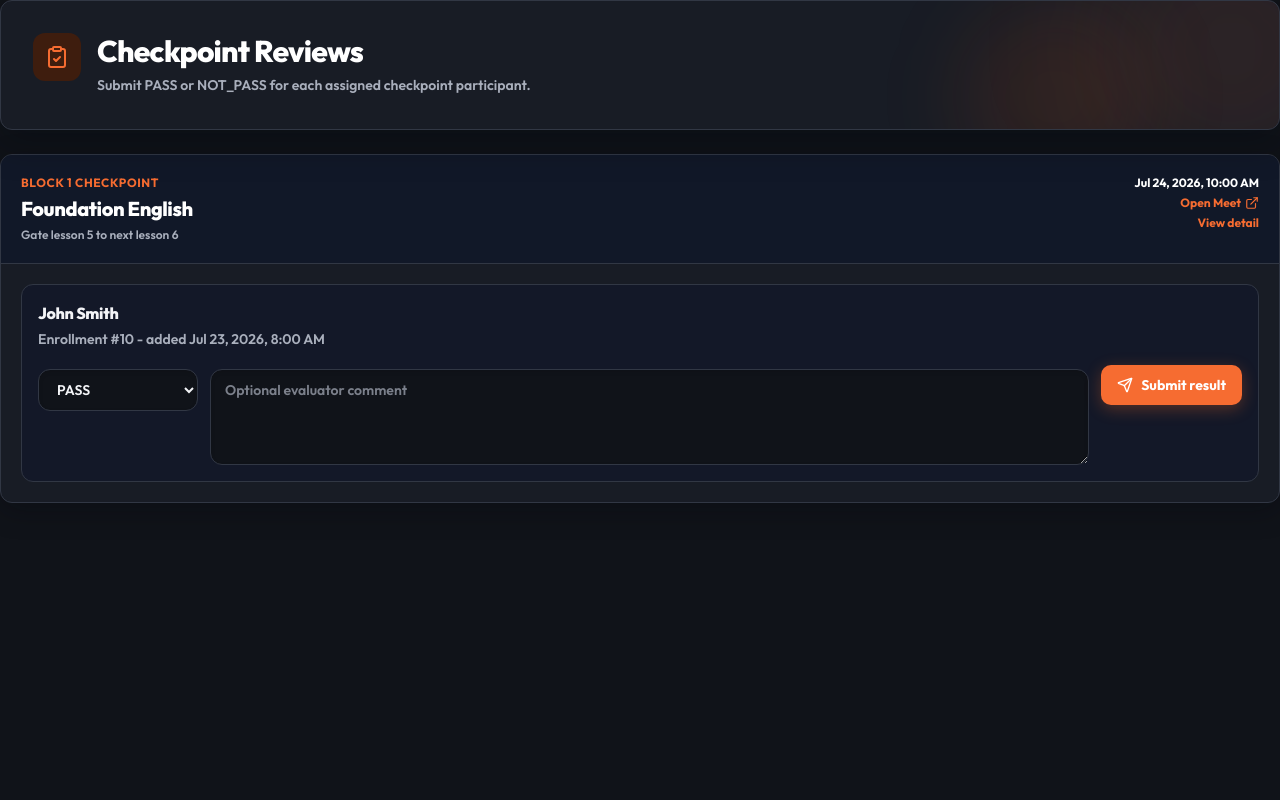
Scenario: EvaluatorCheckpointPage › submits checkpoint result for a participant
Check: the heading "John Smith" is shown, box [38, 303, 118, 323]
Select "NOT_PASS" in the dropdown with test id "checkpoint-result-77": (118, 390) [38, 369, 198, 411]
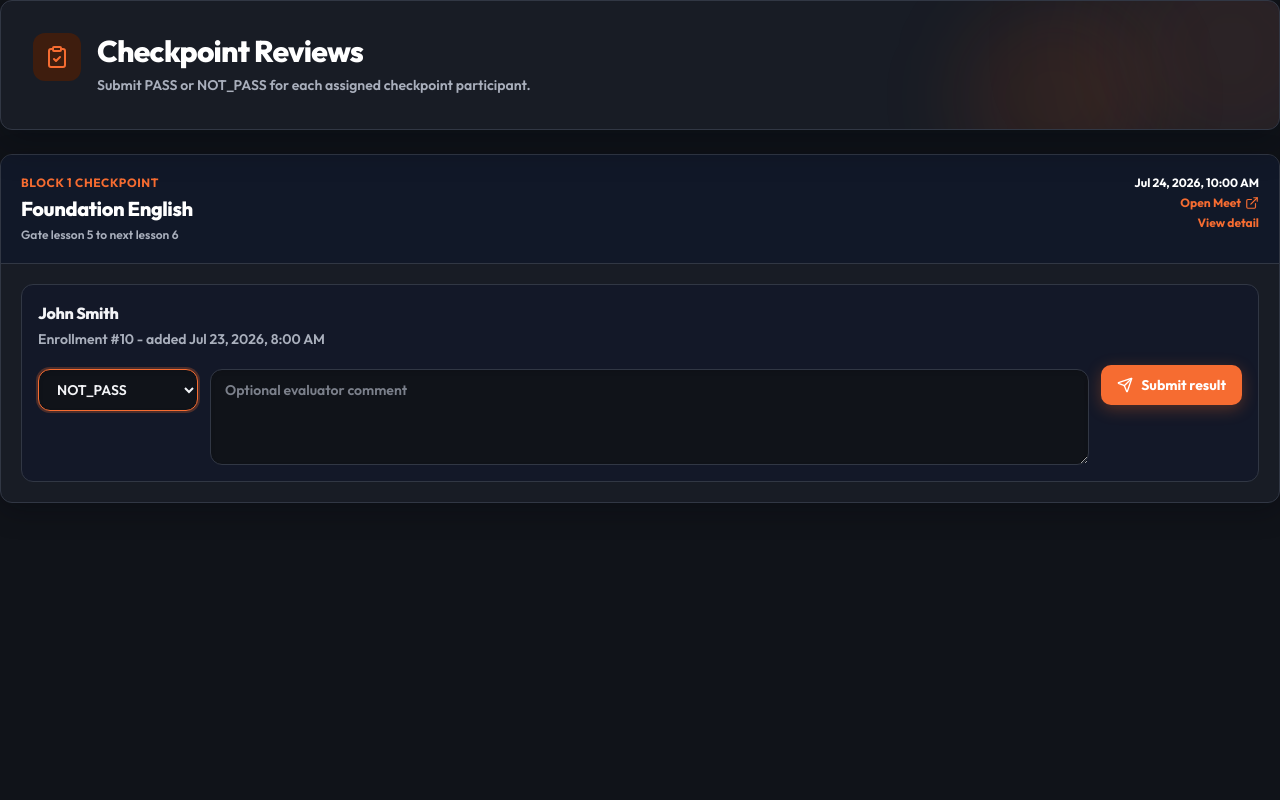
In the text box with test id "checkpoint-comment-77": (650, 417) [210, 369, 1089, 465], type "Needs one more speaking checkpoint."
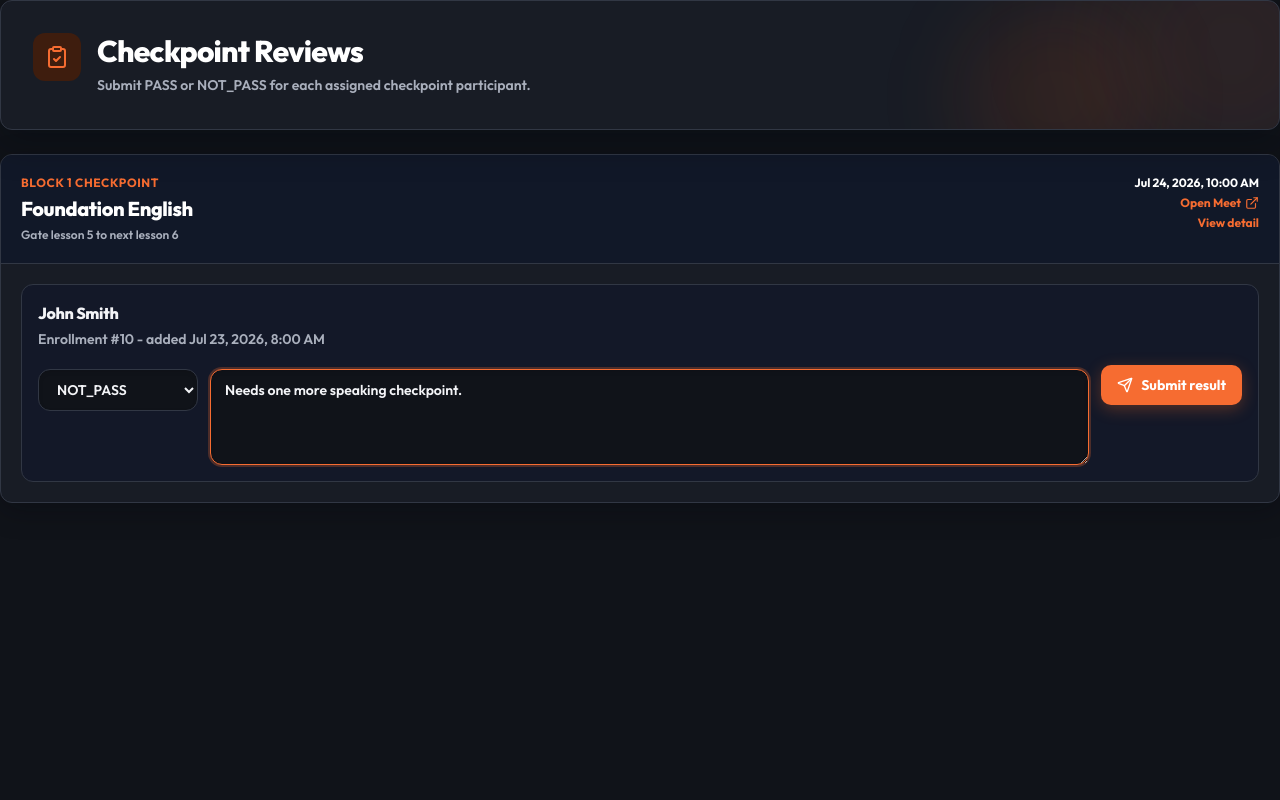
Click the button with test id "submit-checkpoint-result-77": (1172, 385) [1101, 365, 1242, 405]
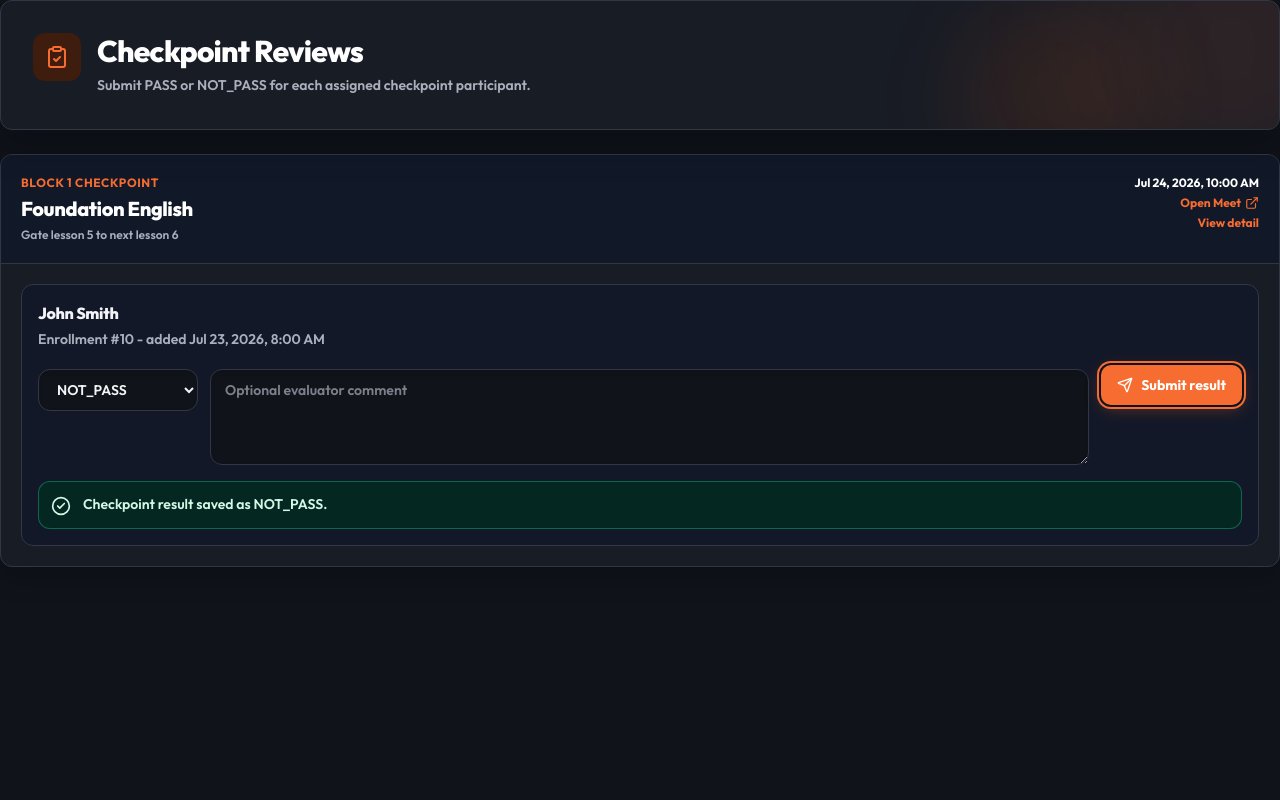
Check: the text "Checkpoint result saved as NOT_PASS." is shown, box [38, 481, 1242, 529]
